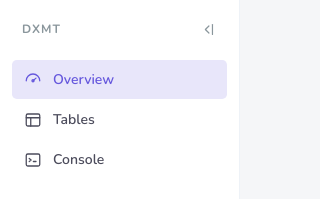
Test: the sidebar › says which state it is in, for anyone not looking at it
The image size is (320, 199).
Click the button.
click(208, 29)  # box [190, 16, 225, 42]
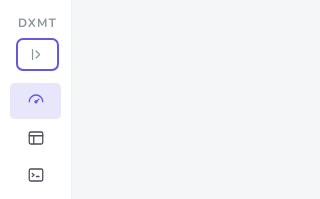
Expected: the button is collapsed, [20, 42, 55, 67]
